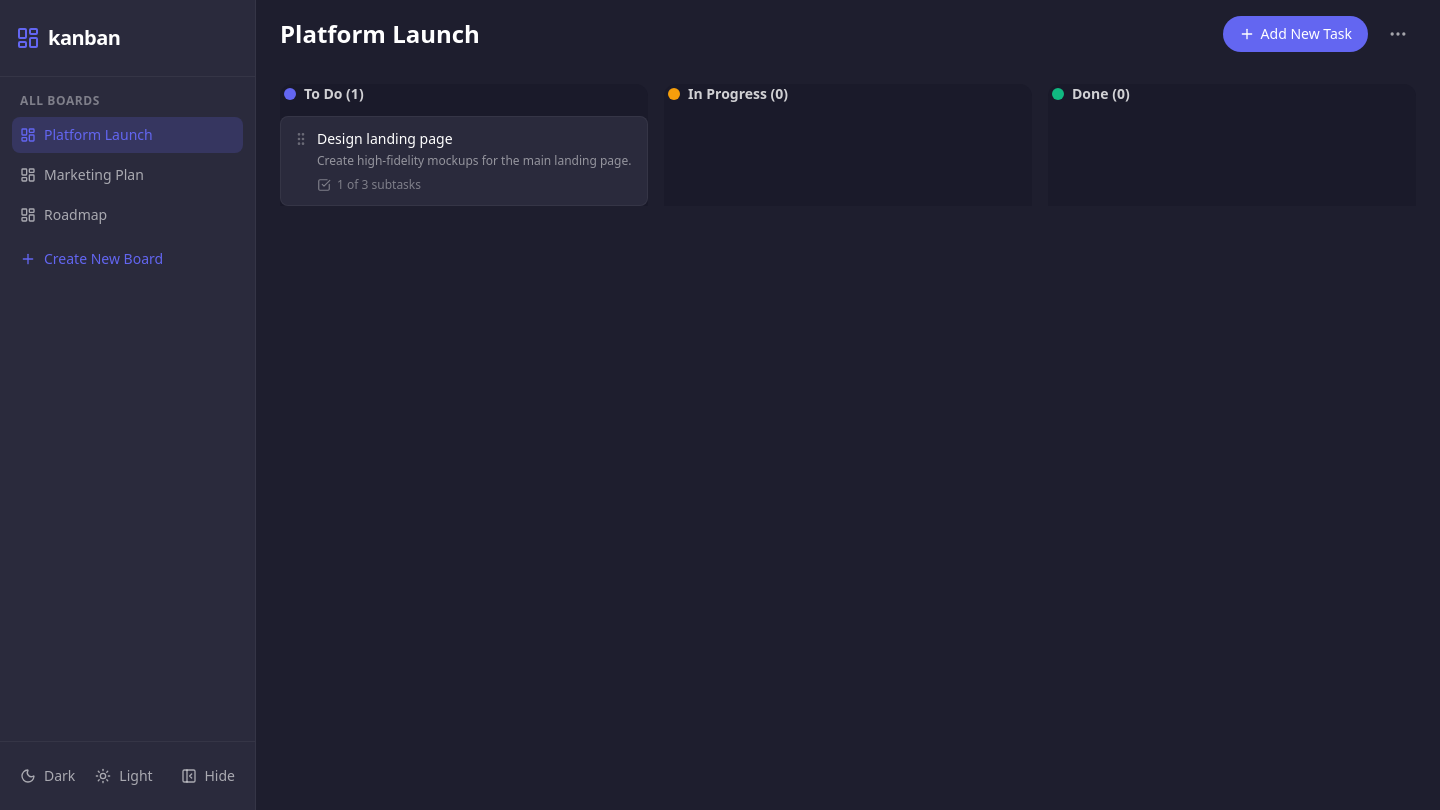
Test: App › opens the task modal when Add New Task is clicked
Click the button "Add New Task" at (1295, 34), box left=1223, top=16, right=1368, bottom=52
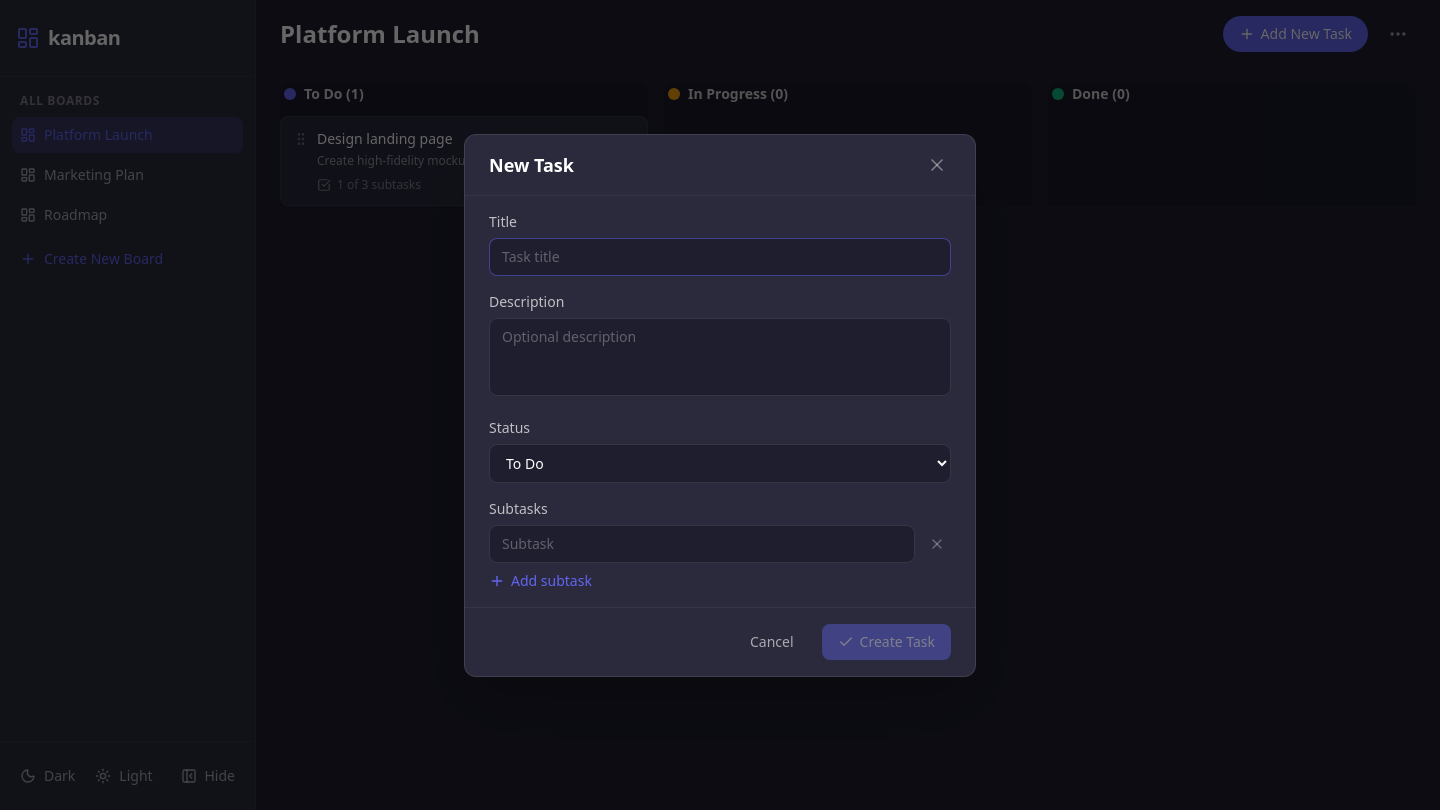
Result: the heading "New Task" is shown at left=489, top=150, right=574, bottom=178
